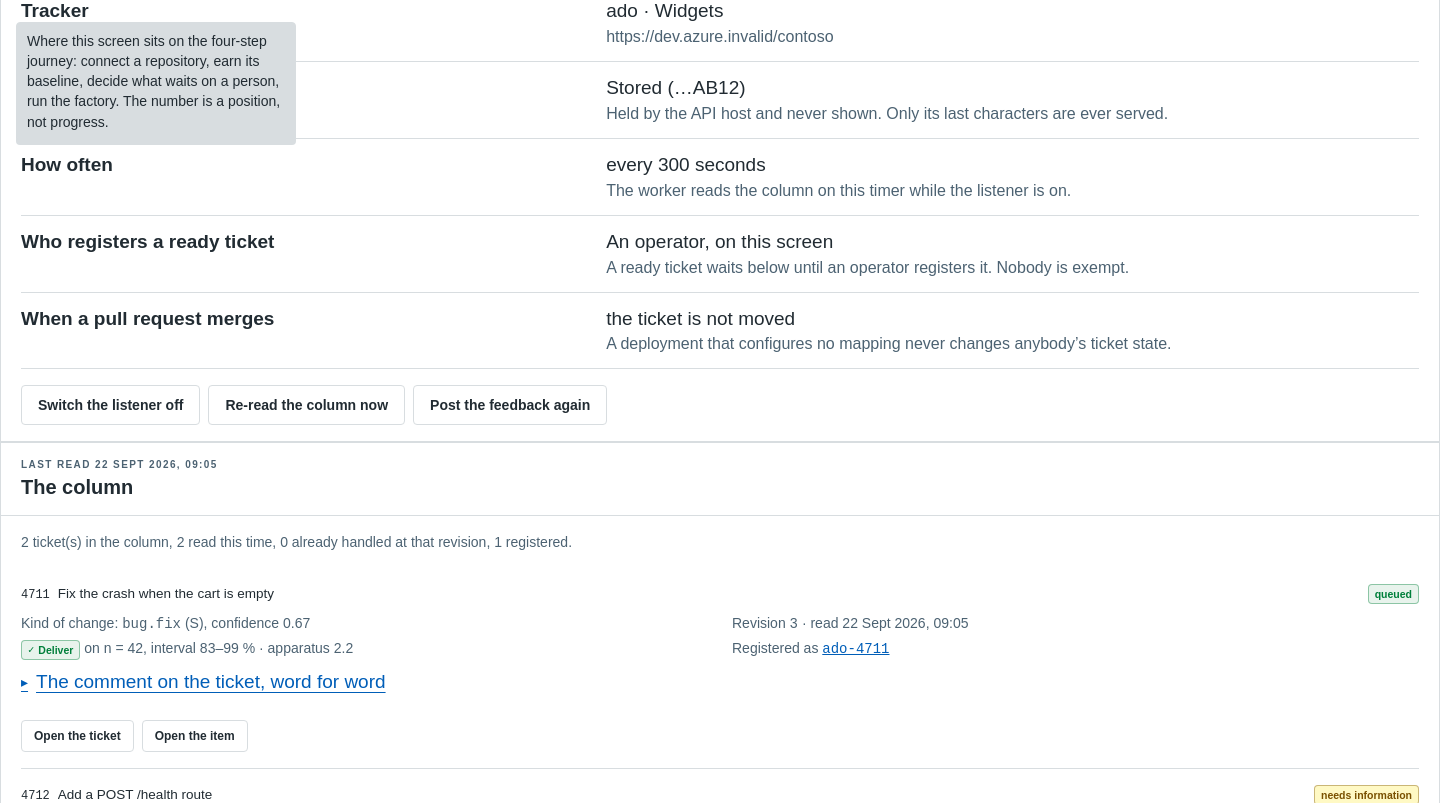
Test: IntakePage › switching it off says that nothing on the board will be read or written
(page scrolled)
Click the button "Switch the listener off". click: [111, 406]
box: [21, 386, 200, 426]
(page scrolled)
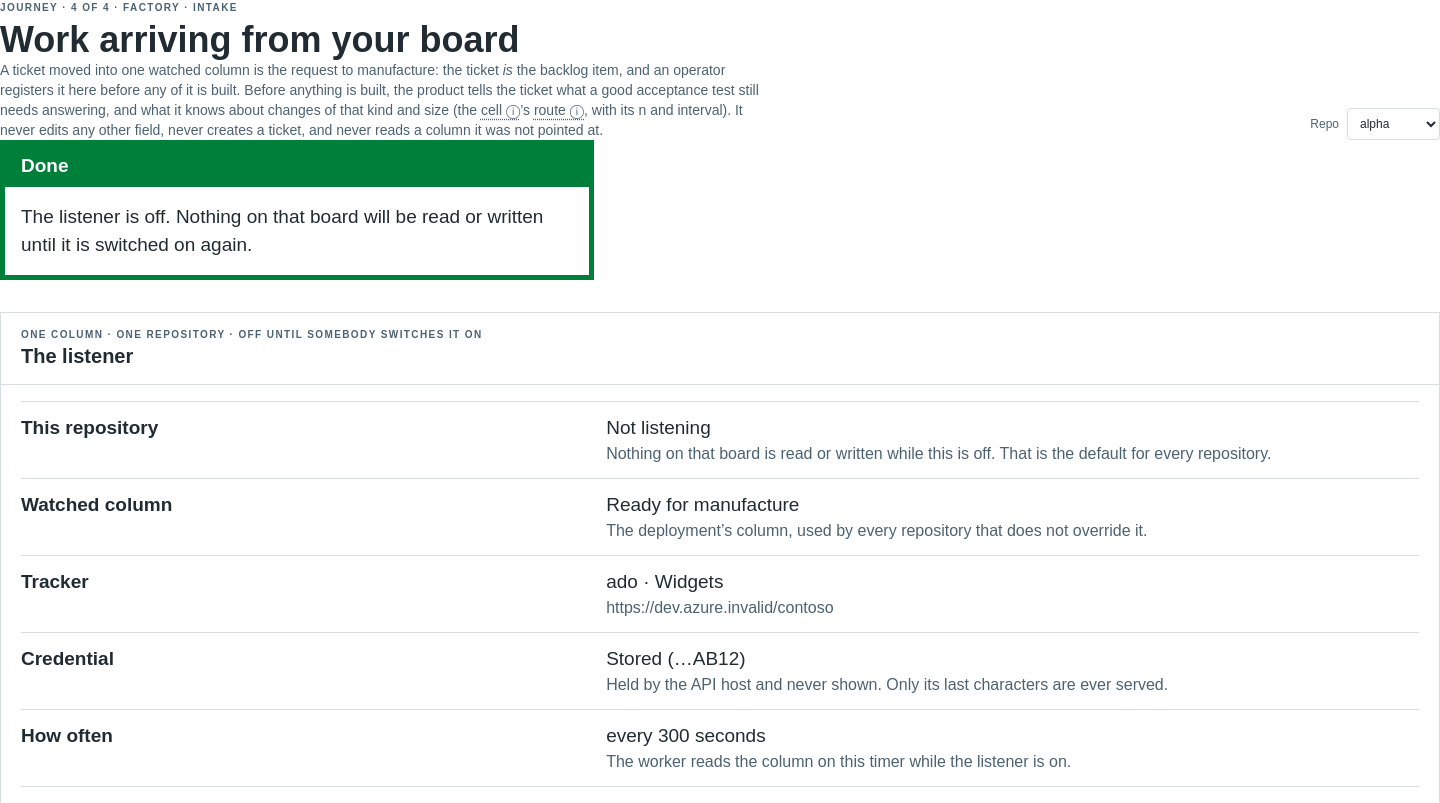
Result: the message with test id "intake-success" shows "is off" at [21, 206, 543, 255]
